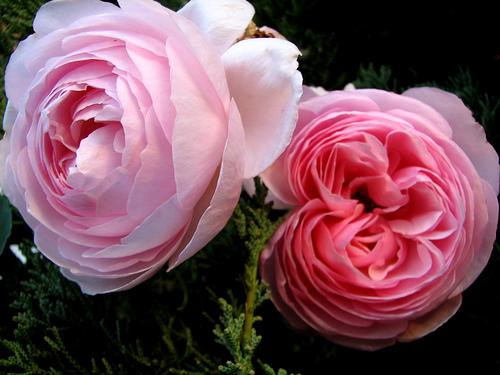Rose: (5, 6, 305, 293), (256, 59, 497, 373)
